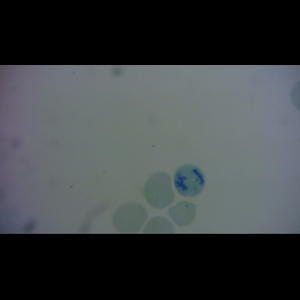aggregate reticulocyte: (173, 164, 205, 198)
erythrocyte: (143, 171, 176, 209), (112, 201, 149, 234)
punctate reticulocyte: (167, 200, 198, 228)
